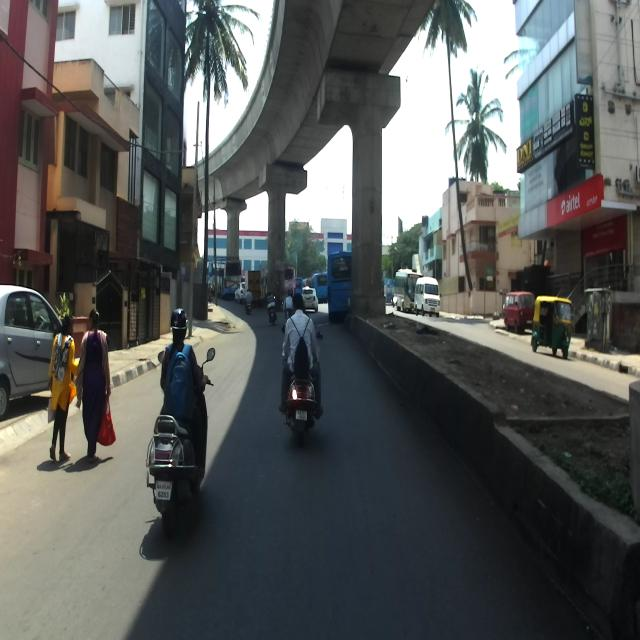motorcycle ahead at: (146, 408, 217, 528), (280, 358, 327, 442)
person ahead at: (78, 301, 116, 470), (44, 309, 78, 464)
